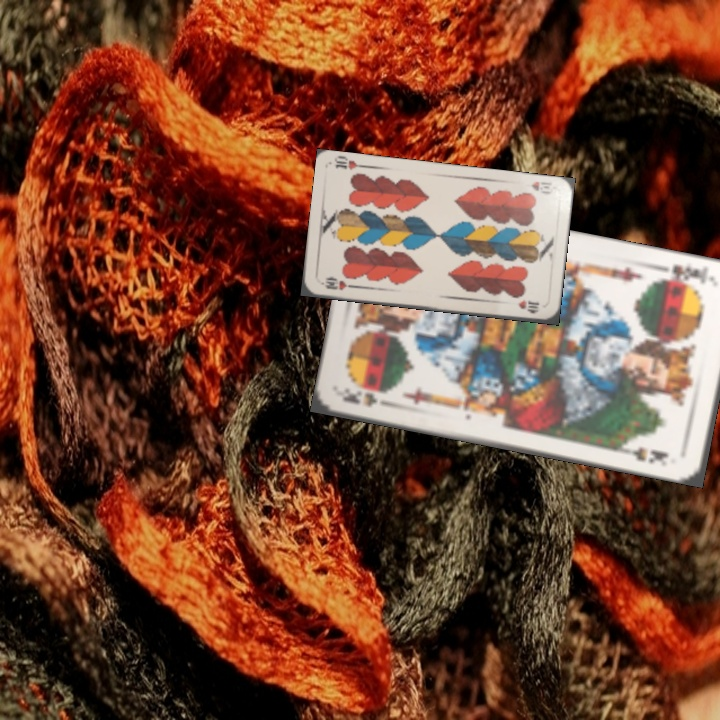H10: (317, 274, 357, 293), (527, 177, 558, 197)
SK: (656, 260, 717, 289), (337, 384, 380, 410)
